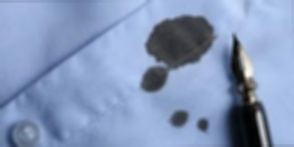ink: (147, 15, 215, 66), (141, 67, 167, 92), (169, 111, 188, 127), (198, 118, 209, 131)
